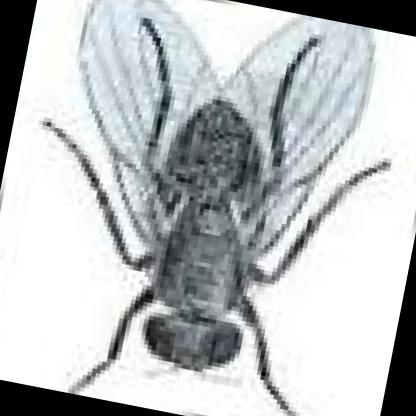fruit fly: (44, 0, 383, 416)
